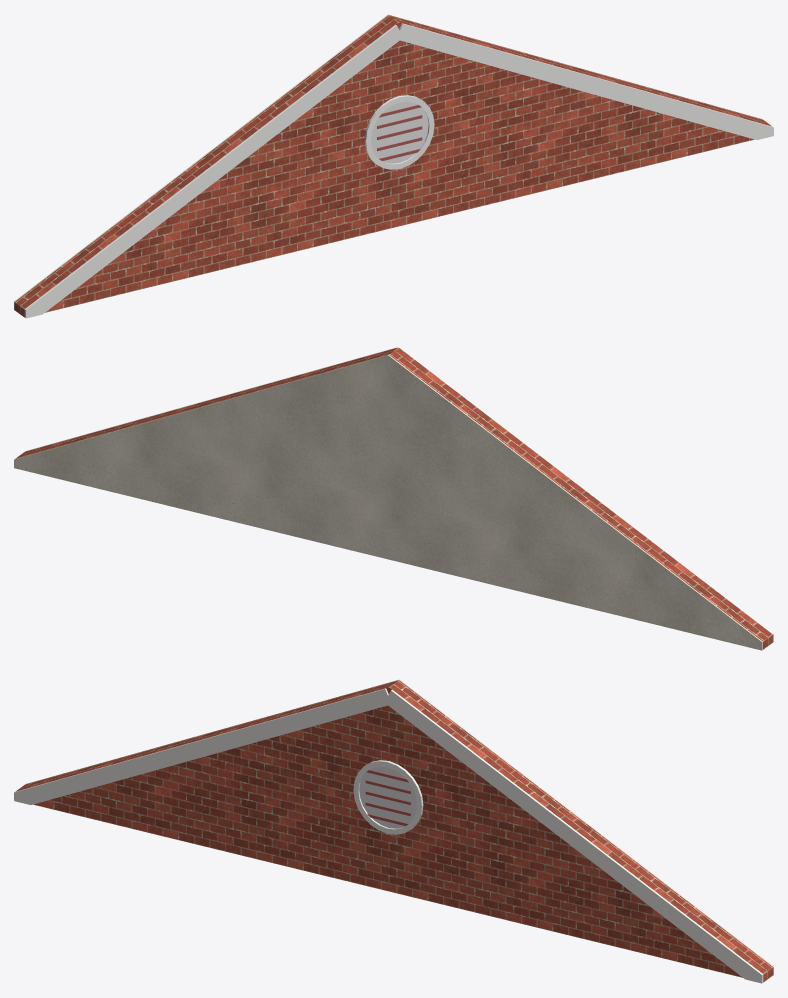
File: gable_hall.glb
The picture shows the model from 3 angles, top to bottom: view 1: azimuth 30°, elevation 25°; view 2: azimuth 150°, elevation 25°; view 3: azimuth 330°, elevation 25°; orthographic projection.
Visible parts, largest first — view 1: gable_hall_brick, gable_hall_trim, gable_hall_vent, gable_hall_plaster, gable_hall_shutter_dark; view 2: gable_hall_plaster, gable_hall_brick, gable_hall_trim; view 3: gable_hall_brick, gable_hall_trim, gable_hall_vent, gable_hall_plaster, gable_hall_shutter_dark.
Part boxes in pixels (x1,y1,x2,y2): gable_hall_brick: [14, 15, 771, 317]; gable_hall_trim: [24, 23, 773, 318]; gable_hall_vent: [371, 101, 428, 163]; gable_hall_plaster: [14, 14, 761, 309]; gable_hall_shutter_dark: [377, 105, 422, 160]; gable_hall_plaster: [14, 354, 762, 650]; gable_hall_brick: [15, 347, 772, 649]; gable_hall_trim: [25, 347, 773, 641]; gable_hall_brick: [16, 680, 773, 982]; gable_hall_trim: [14, 688, 763, 983]; gable_hall_vent: [359, 766, 416, 828]; gable_hall_plaster: [26, 679, 773, 974]; gable_hall_shutter_dark: [365, 770, 410, 825].
Size of the model in its own units: 12 by 3.13 by 0.34.
5 materials, 2 textured.
